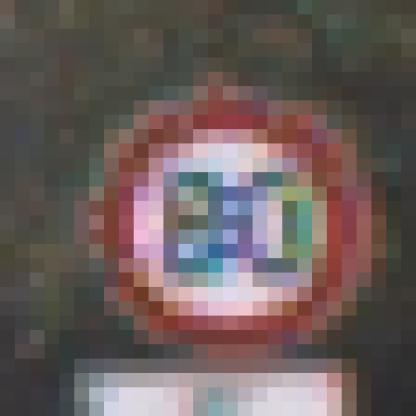Speed Limit 80: (103, 98, 363, 344)
